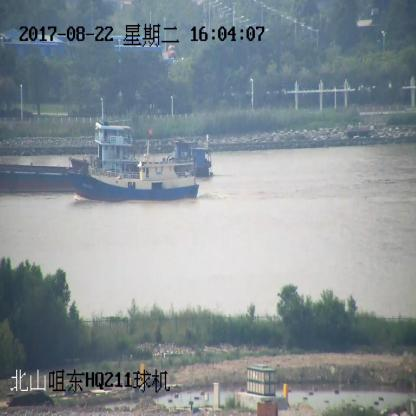Fishing Boat: (68, 131, 199, 202)
